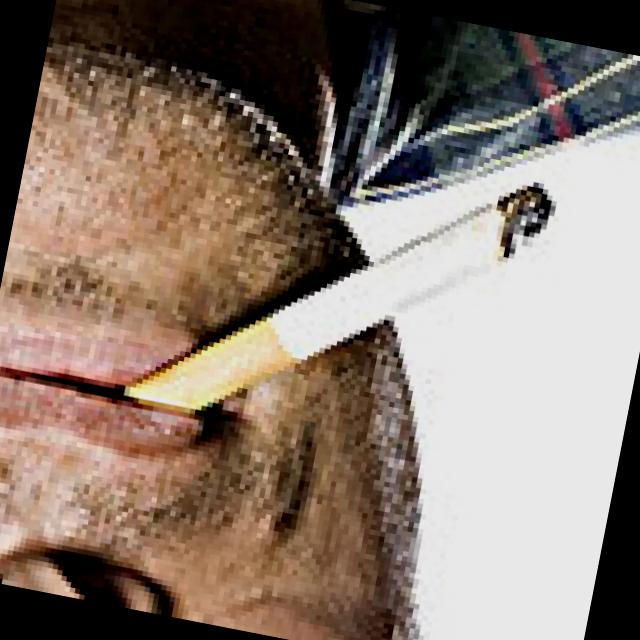smoke: (83, 92, 602, 504)
